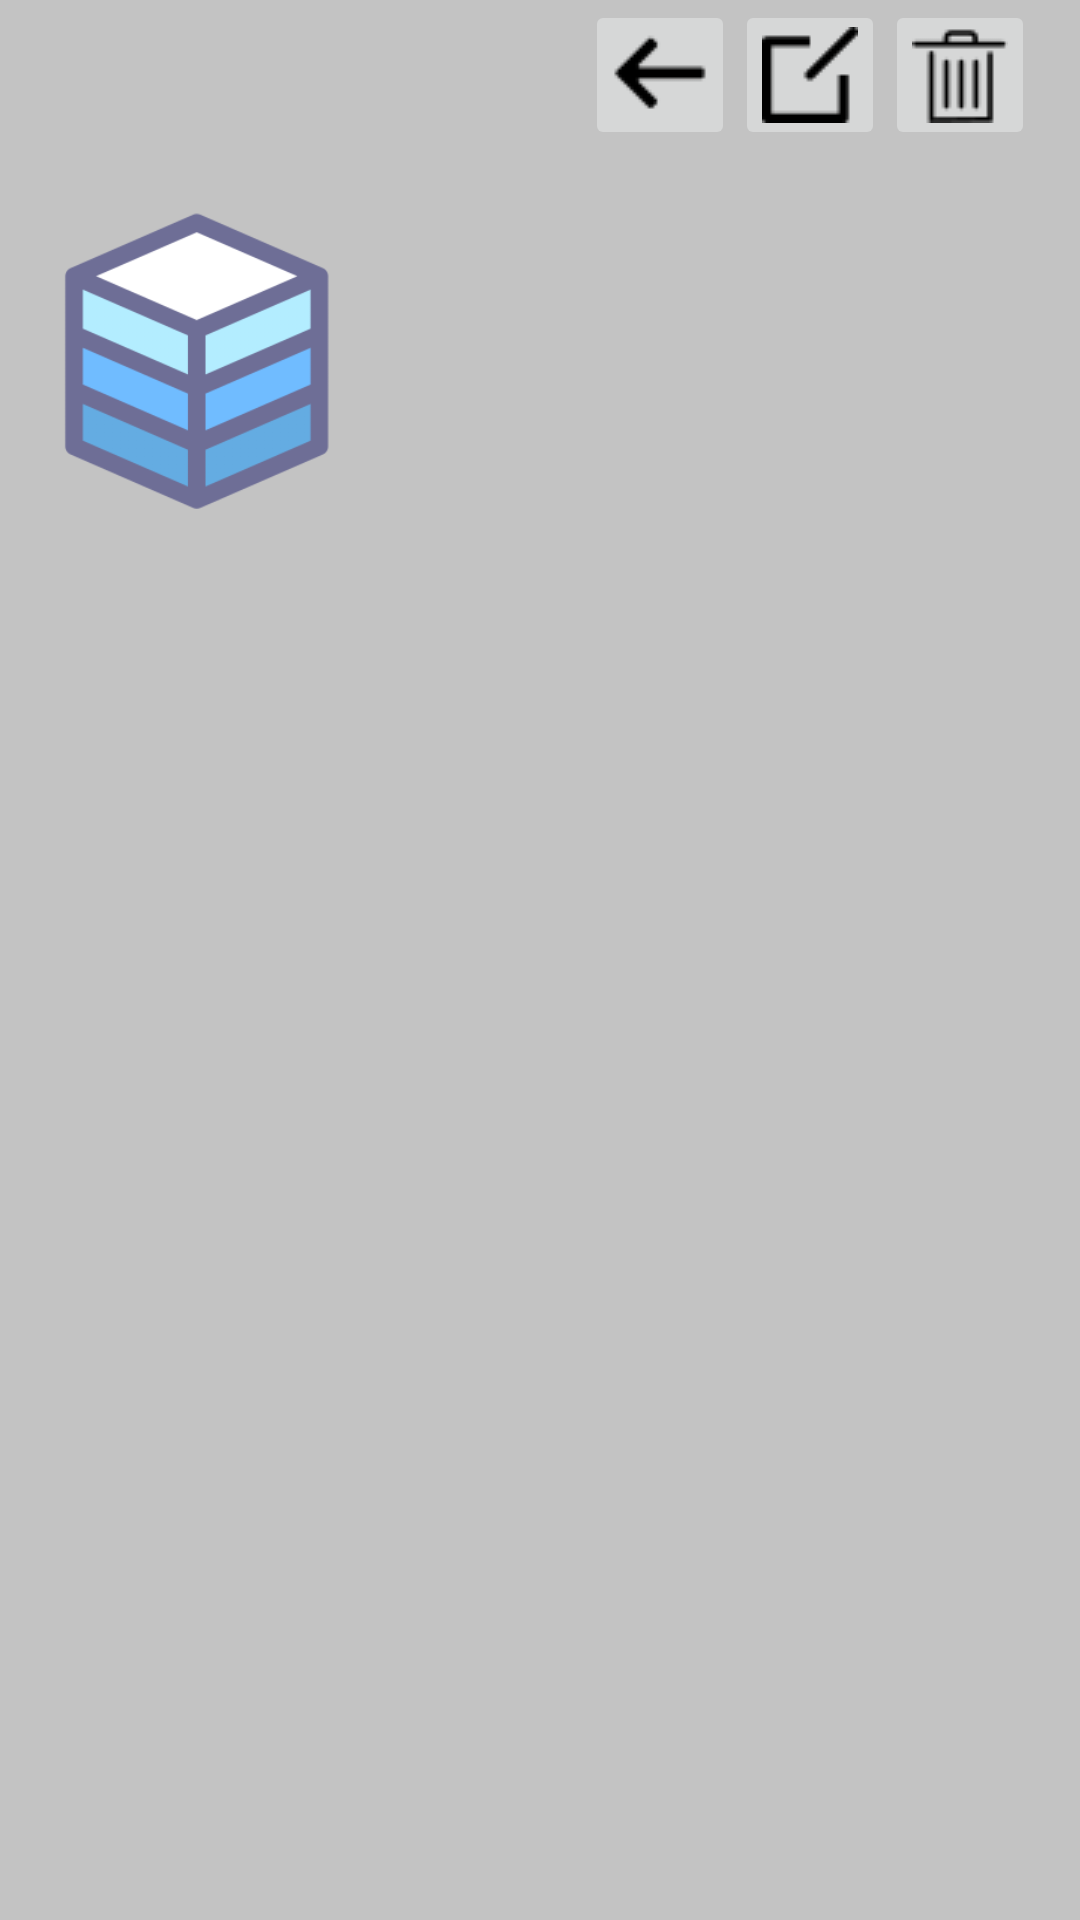

Where to tap for icons on this 1080 × 1920 app screen, as (x,y):
app: (197,361)
back: (660,75)
delete: (960,75)
edit: (810,75)
